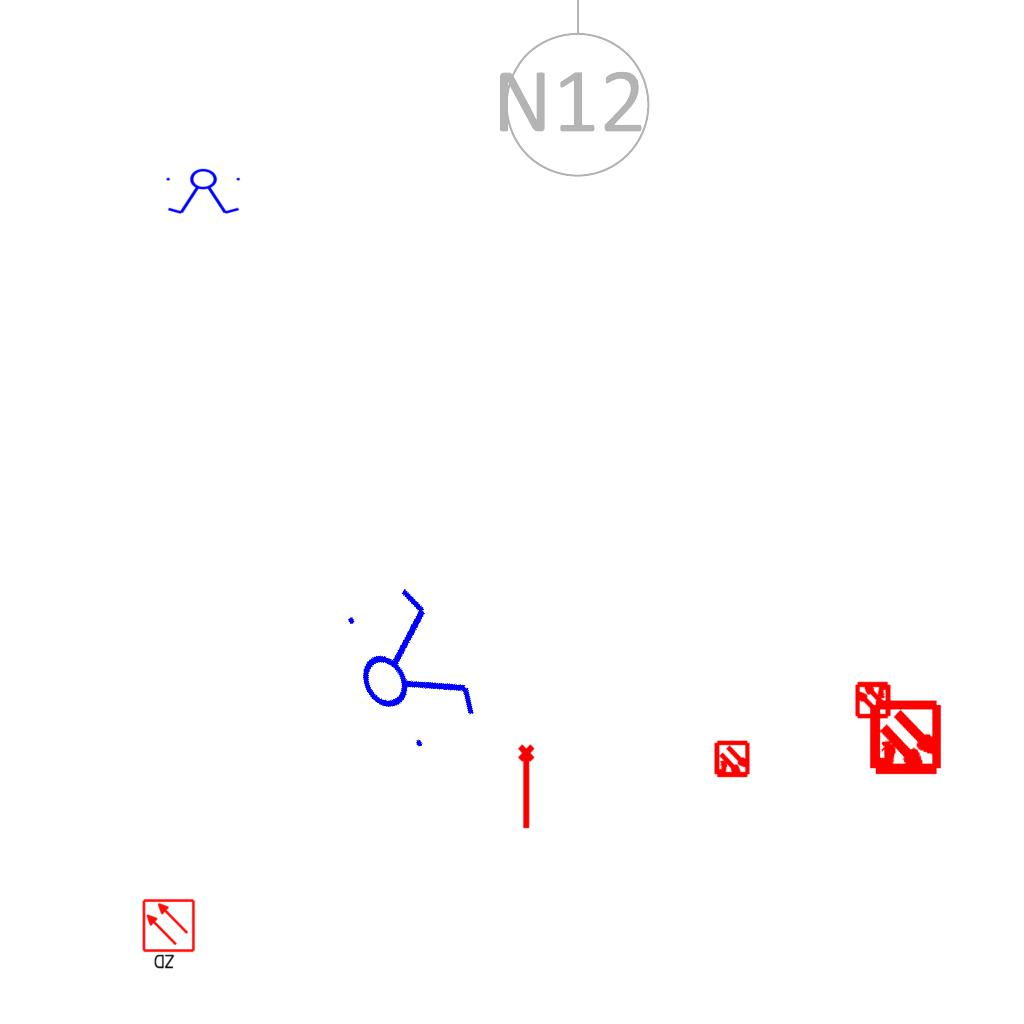ASR_Ansaugoeffnung: (516, 743, 539, 831)
OT_Multisensormelder_(Kombination_RMO_WMD): (849, 683, 962, 796), (704, 732, 760, 788), (845, 671, 901, 727)
Serienschalter: (324, 571, 490, 765), (162, 168, 246, 216)
ZD_Melder_in_Zwischendecke_mit_Revisionsoeffnung_mind_40_x_40_cm: (141, 898, 198, 972)
